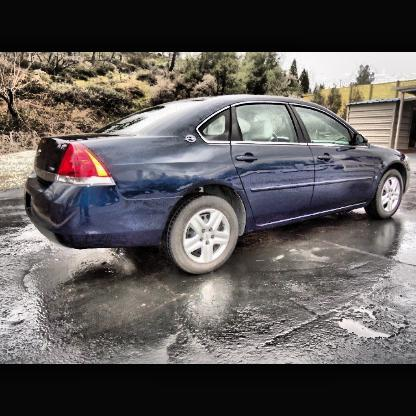Chevrolet Impala Sedan 2007: (24, 95, 412, 278)
